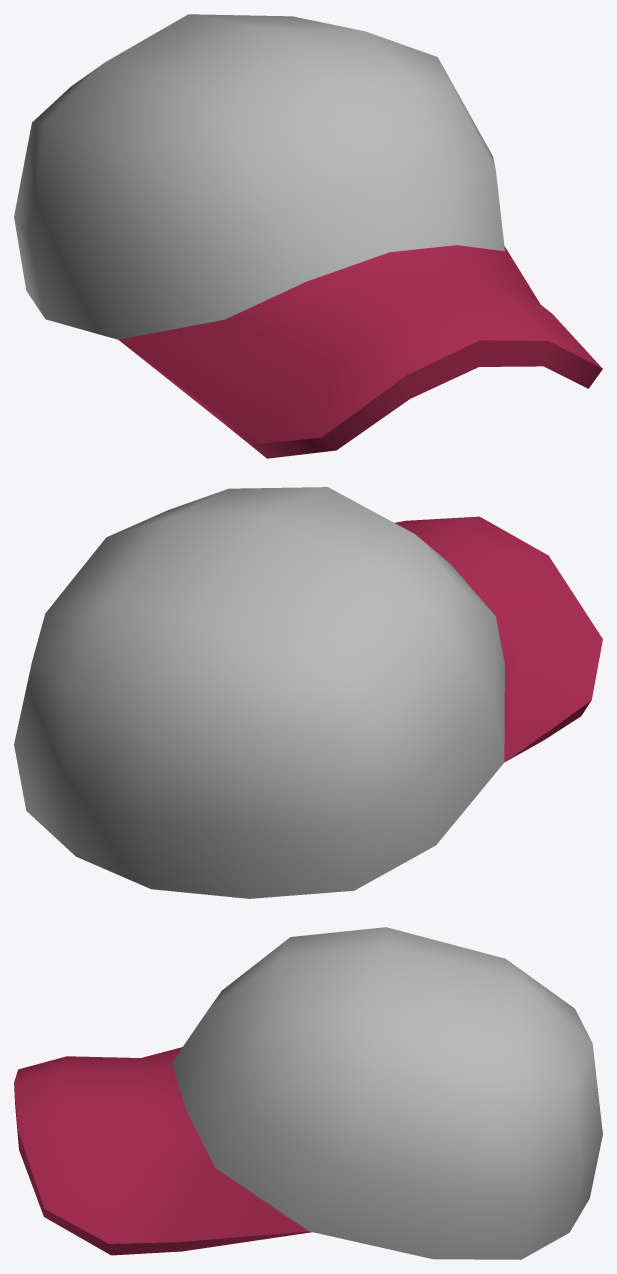
File: Female_Hat_02_v4.fbx
The picture shows the model from 3 angles, top to bottom: view 1: azimuth 30°, elevation 25°; view 2: azimuth 150°, elevation 25°; view 3: azimuth 270°, elevation 25°; orthographic projection. The views are drawn at different scales.
Parts seen in each view (by area): view 1: Female_Hat_02_v4; view 2: Female_Hat_02_v4; view 3: Female_Hat_02_v4.
Part boxes in pixels (box(x1,y1,x2,y2)): Female_Hat_02_v4: box(14, 14, 602, 458); Female_Hat_02_v4: box(14, 487, 602, 898); Female_Hat_02_v4: box(14, 927, 602, 1259).
Bounding box in the file's own units: 57.4 × 39.37 × 83.67.
